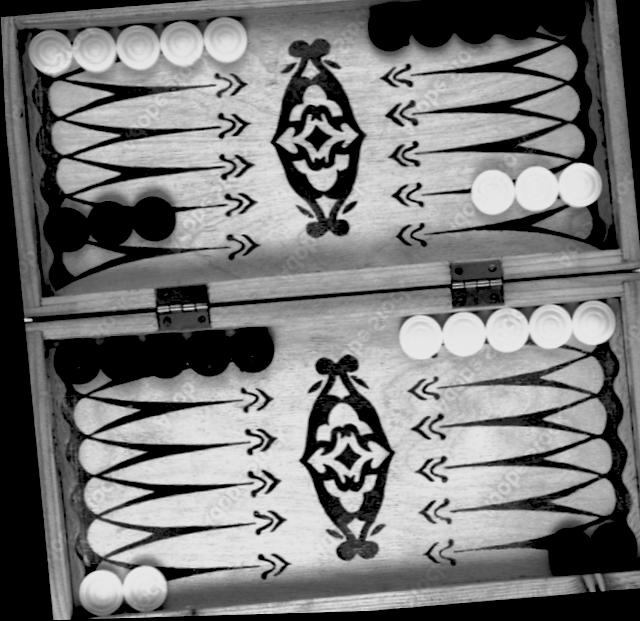bar: (38, 252, 619, 342)
board: (1, 0, 640, 621)
dark_p: (220, 322, 279, 379), (89, 328, 146, 387), (80, 193, 136, 252), (175, 328, 231, 384), (46, 332, 101, 389), (124, 189, 179, 246), (363, 0, 418, 56), (134, 331, 191, 385), (540, 525, 593, 582), (582, 521, 635, 576), (38, 201, 91, 256), (407, 0, 459, 51), (449, 0, 501, 50), (494, 0, 547, 45), (535, 0, 592, 41)
light_p: (198, 9, 252, 67), (154, 16, 206, 73), (553, 158, 605, 214), (69, 19, 121, 75), (433, 309, 486, 363), (110, 21, 164, 74), (506, 164, 560, 216), (21, 25, 73, 78), (464, 166, 515, 220), (69, 564, 120, 618), (114, 561, 165, 614), (389, 314, 442, 364), (524, 303, 574, 353), (478, 308, 529, 356), (567, 301, 616, 350)
